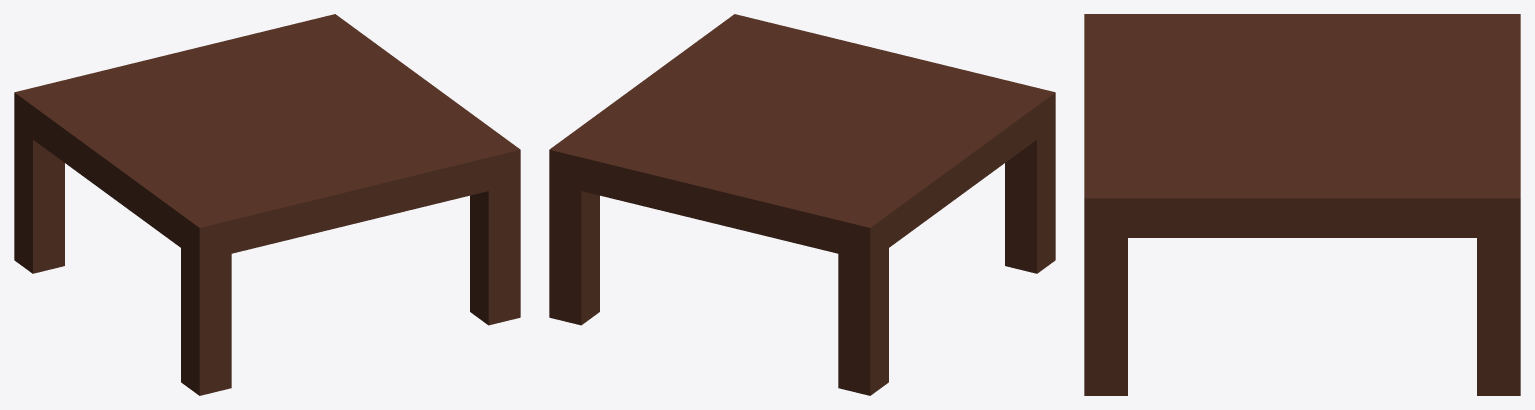
File: Coffee Table.fbx
3 renders of one model, left to right at view 1: azimuth 30°, elevation 25°; view 2: azimuth 150°, elevation 25°; view 3: azimuth 270°, elevation 25°, orthographic. The views are drawn at different scales.
Visible parts, largest first — view 1: pCube2; view 2: pCube2; view 3: pCube2.
Boxes of the visible parts, x1,y1,x2,y2 form: pCube2: (14, 14, 520, 395); pCube2: (549, 14, 1055, 395); pCube2: (1084, 14, 1520, 395).
Size of the model in its own units: 2 by 1 by 2.
